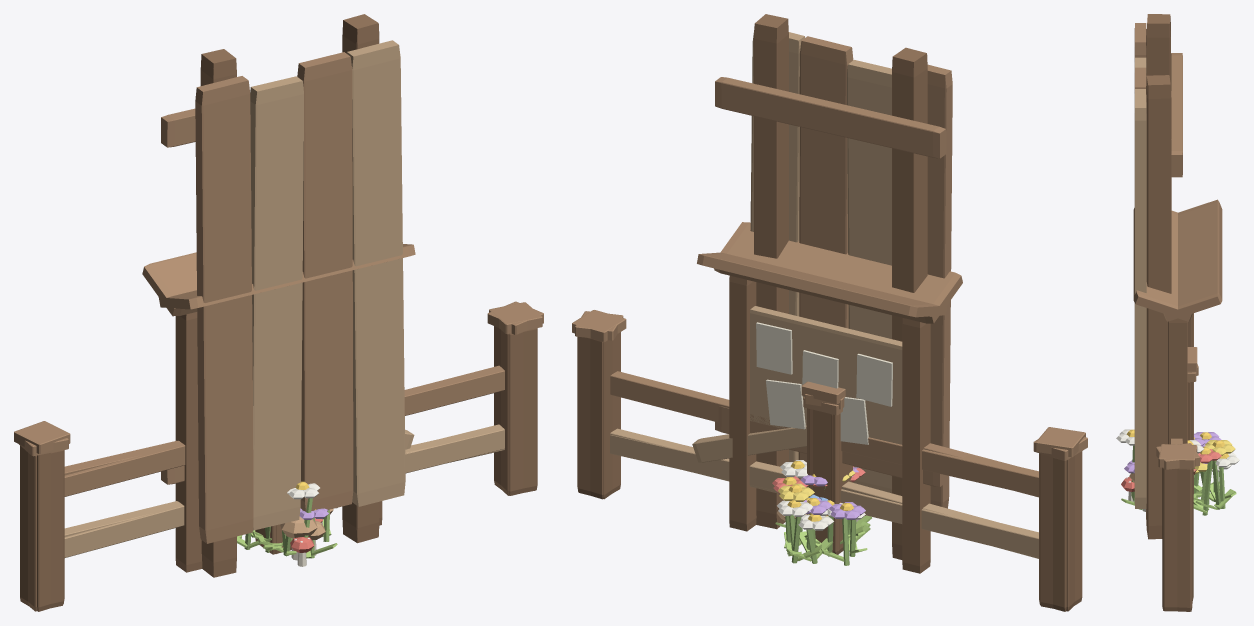
The model's file is custom.glb.
3 views of the same model, side by side, from view 1: azimuth 30°, elevation 25°; view 2: azimuth 150°, elevation 25°; view 3: azimuth 270°, elevation 25° (orthographic). The views are drawn at different scales.
Parts seen in each view (by area): view 1: banner_board, fence_wood, fence_wood_broken, notice_board, mushrooms_brown, flowers_red; view 2: banner_board, notice_board, fence_wood, fence_wood_broken, fence_wood_post, flowers_violet, flowers_mixed, flowers_yellow, flowers_red; view 3: banner_board, notice_board, fence_wood, fence_wood_broken, flowers_red, flowers_yellow, flowers_violet, flowers_mixed, fence_wood_post, mushrooms_red.
Part boxes in pixels (x1=…): banner_board: x1=161, y1=14, x2=405, y2=577; fence_wood: x1=14, y1=302, x2=542, y2=611; fence_wood_broken: x1=19, y1=301, x2=543, y2=611; notice_board: x1=142, y1=244, x2=415, y2=572; mushrooms_brown: x1=280, y1=509, x2=333, y2=560; flowers_red: x1=272, y1=481, x2=319, y2=558; banner_board: x1=715, y1=14, x2=952, y2=559; notice_board: x1=697, y1=222, x2=962, y2=573; fence_wood: x1=572, y1=310, x2=1085, y2=611; fence_wood_broken: x1=575, y1=311, x2=1087, y2=611; fence_wood_post: x1=801, y1=381, x2=852, y2=554; flowers_violet: x1=777, y1=474, x2=870, y2=565; flowers_mixed: x1=786, y1=467, x2=865, y2=563; flowers_yellow: x1=775, y1=460, x2=870, y2=557; flowers_red: x1=772, y1=466, x2=871, y2=548; banner_board: x1=1134, y1=14, x2=1182, y2=539; notice_board: x1=1133, y1=199, x2=1222, y2=444; fence_wood: x1=1158, y1=313, x2=1197, y2=611; fence_wood_broken: x1=1156, y1=316, x2=1199, y2=611; flowers_red: x1=1116, y1=429, x2=1221, y2=515; flowers_yellow: x1=1187, y1=440, x2=1235, y2=509; flowers_violet: x1=1193, y1=432, x2=1239, y2=508; flowers_mixed: x1=1121, y1=460, x2=1236, y2=509; fence_wood_post: x1=1187, y1=347, x2=1197, y2=439; mushrooms_red: x1=1121, y1=469, x2=1196, y2=501.
Size of the model in its own units: 4.35 by 4.15 by 1.03.
